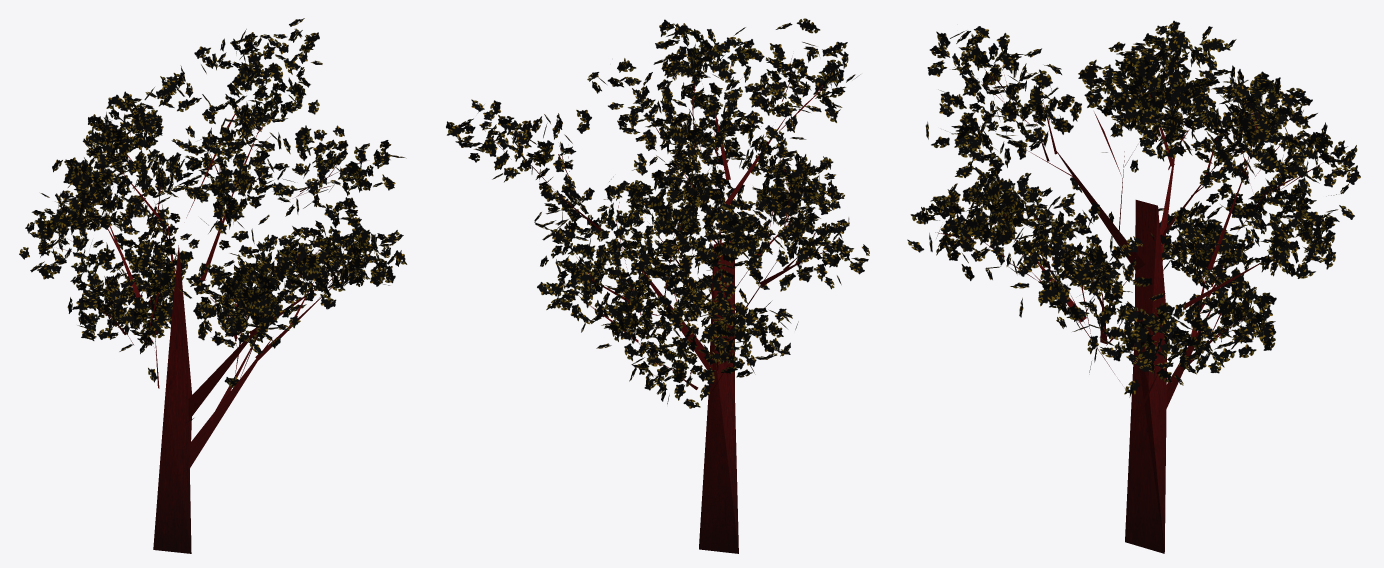
The model's file is broadleaf_giant_v03_LOD2.glb.
3 renders of one model, left to right at view 1: azimuth 30°, elevation 25°; view 2: azimuth 150°, elevation 25°; view 3: azimuth 270°, elevation 25°, orthographic. The views are drawn at different scales.
Parts seen in each view (by area): view 1: broadleaf_giant_v03_LOD2; view 2: broadleaf_giant_v03_LOD2; view 3: broadleaf_giant_v03_LOD2.
Part boxes in pixels (box(x1,y1,x2,y2)): broadleaf_giant_v03_LOD2: box(19, 18, 407, 553); broadleaf_giant_v03_LOD2: box(446, 18, 869, 553); broadleaf_giant_v03_LOD2: box(907, 20, 1360, 553).
Bounding box in the file's own units: 34.72 × 41.89 × 33.88.
2 materials, 2 textured.
